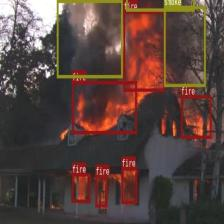fire: (72, 80, 136, 134), (124, 10, 164, 92), (181, 94, 211, 138), (121, 167, 137, 203), (72, 173, 90, 201), (95, 175, 107, 207)
smoke: (56, 0, 122, 77), (164, 6, 206, 86), (126, 0, 194, 10)
